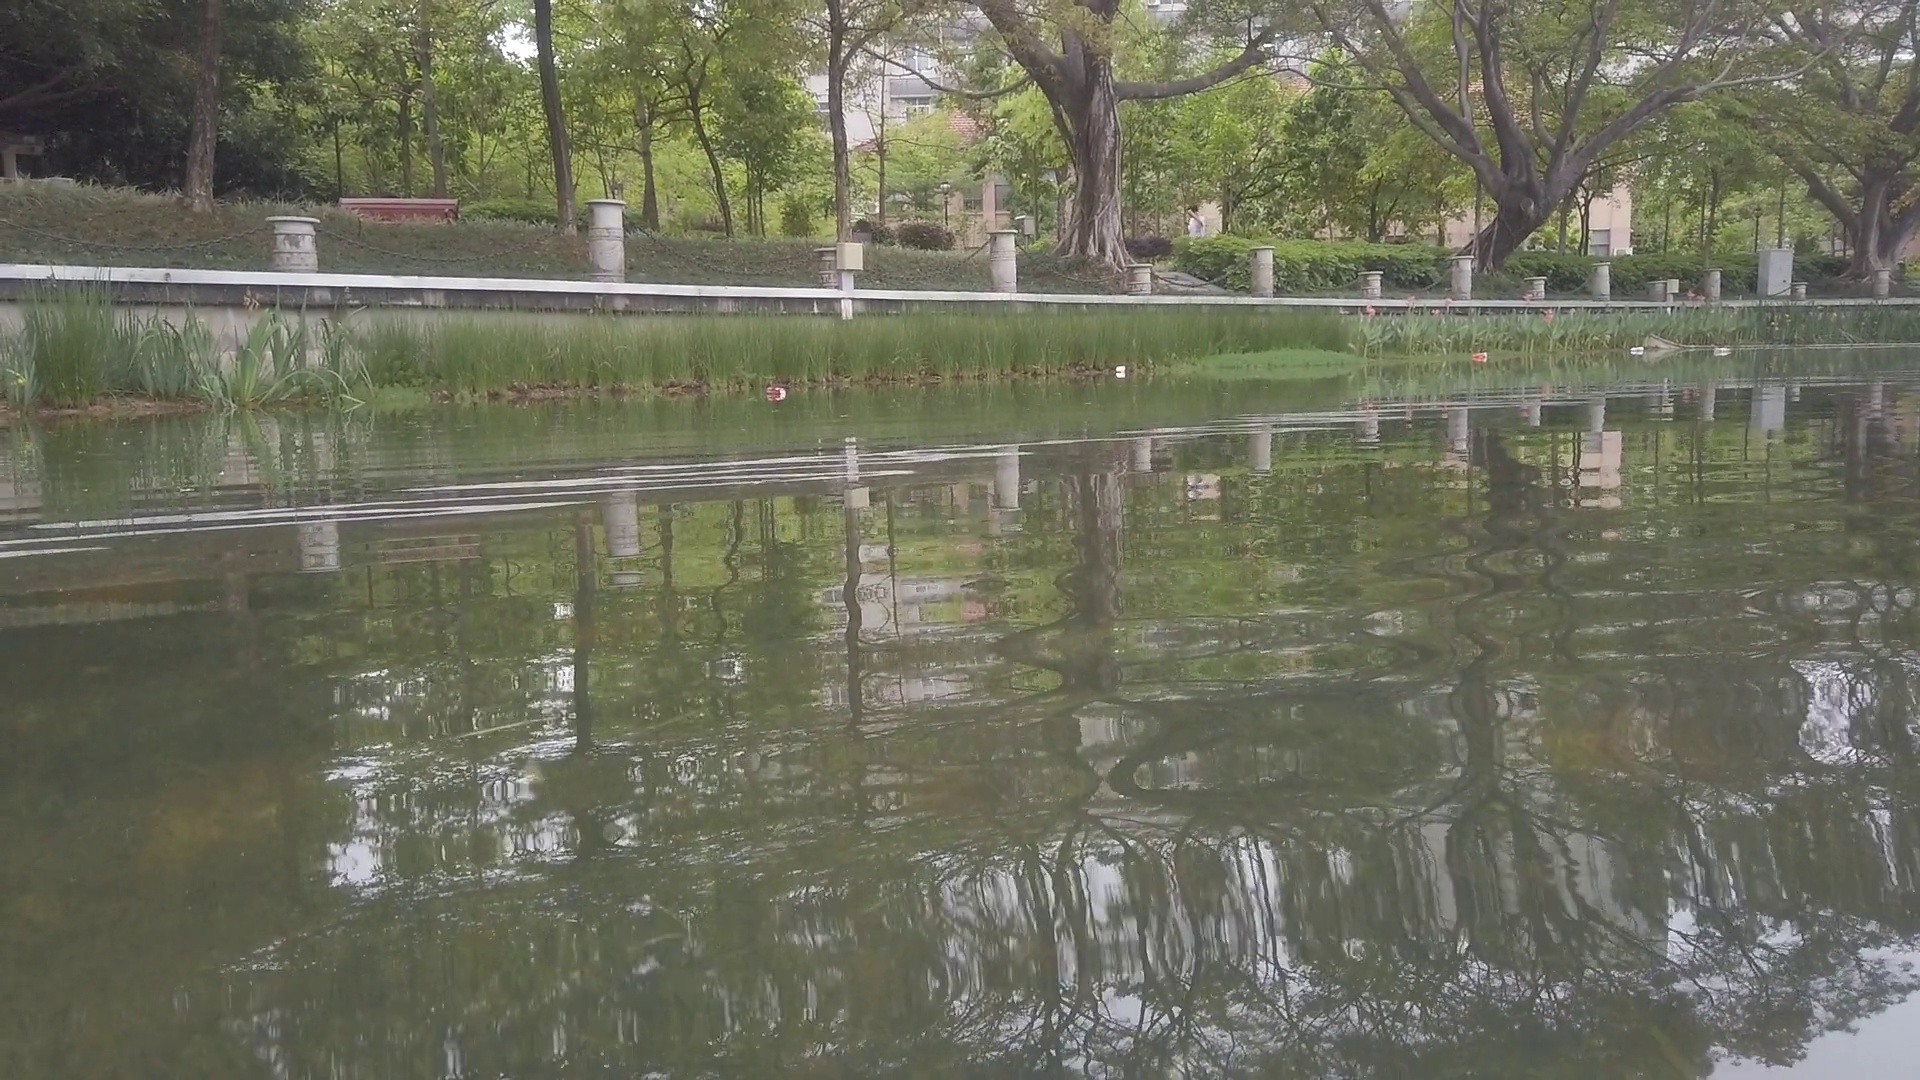bottle: (765, 385, 786, 397), (1630, 345, 1644, 355), (1716, 345, 1731, 353), (1474, 353, 1485, 361)
carton: (1116, 365, 1126, 375)
